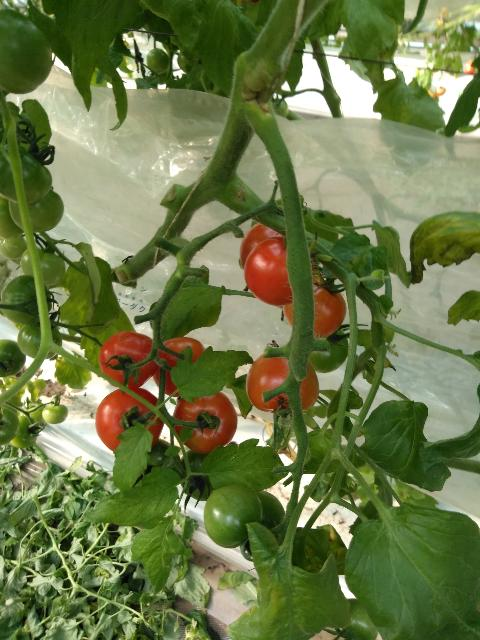l_fully_ripened: (95, 387, 165, 456), (245, 350, 319, 412), (172, 386, 238, 453), (281, 277, 346, 338), (242, 236, 294, 307), (99, 331, 162, 388), (154, 337, 210, 398), (240, 222, 283, 269)
l_green: (0, 9, 52, 95), (203, 485, 262, 550), (0, 145, 52, 205), (0, 275, 52, 326), (8, 187, 64, 233), (179, 449, 214, 503), (20, 246, 66, 286), (17, 320, 62, 360), (310, 327, 348, 373), (255, 489, 285, 541), (343, 598, 378, 639), (144, 437, 180, 475), (0, 196, 25, 239), (9, 416, 39, 449), (0, 339, 26, 377), (0, 406, 20, 445), (0, 235, 26, 260), (146, 48, 170, 75), (42, 403, 68, 424)
